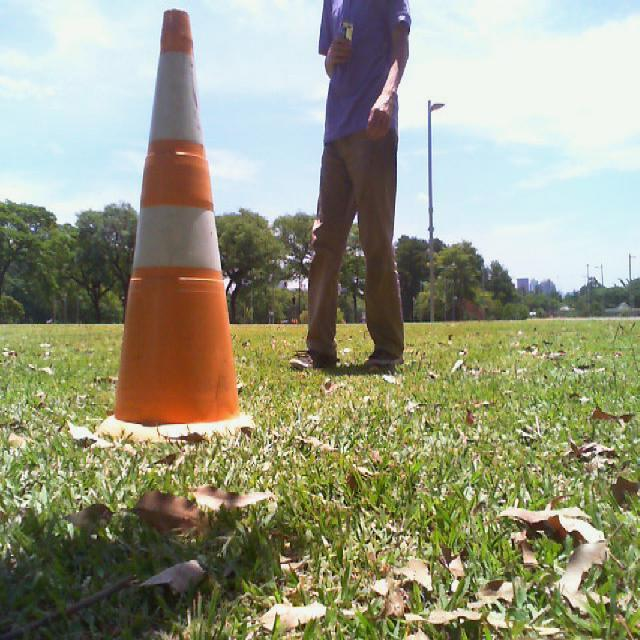Cone: (98, 8, 249, 440)
